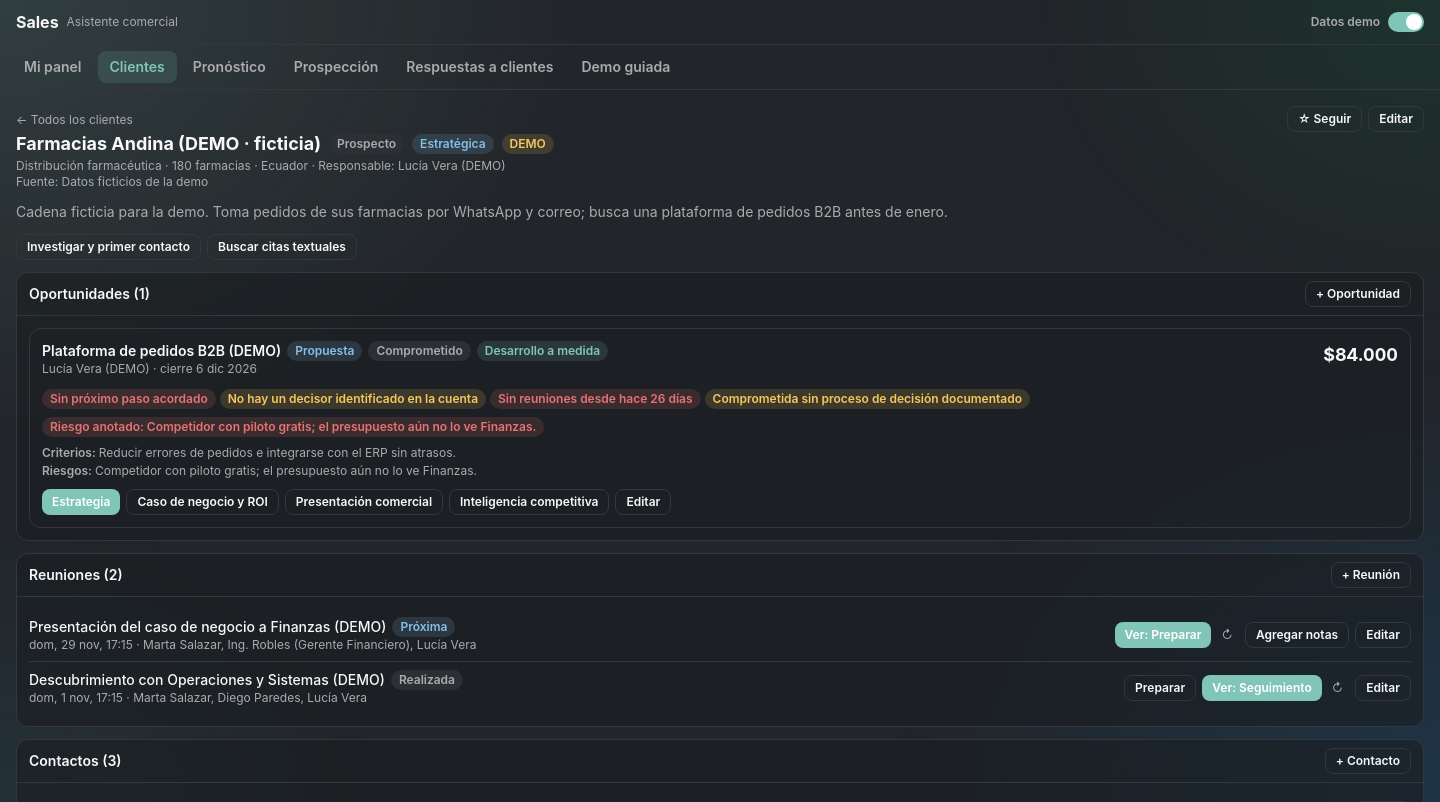
the guided demo, on the page › the business case shows the model's figures and reuses them in the deck
The image size is (1440, 802).
Click the button "Caso de negocio y ROI".
click(203, 502)  # box [126,489,279,515]
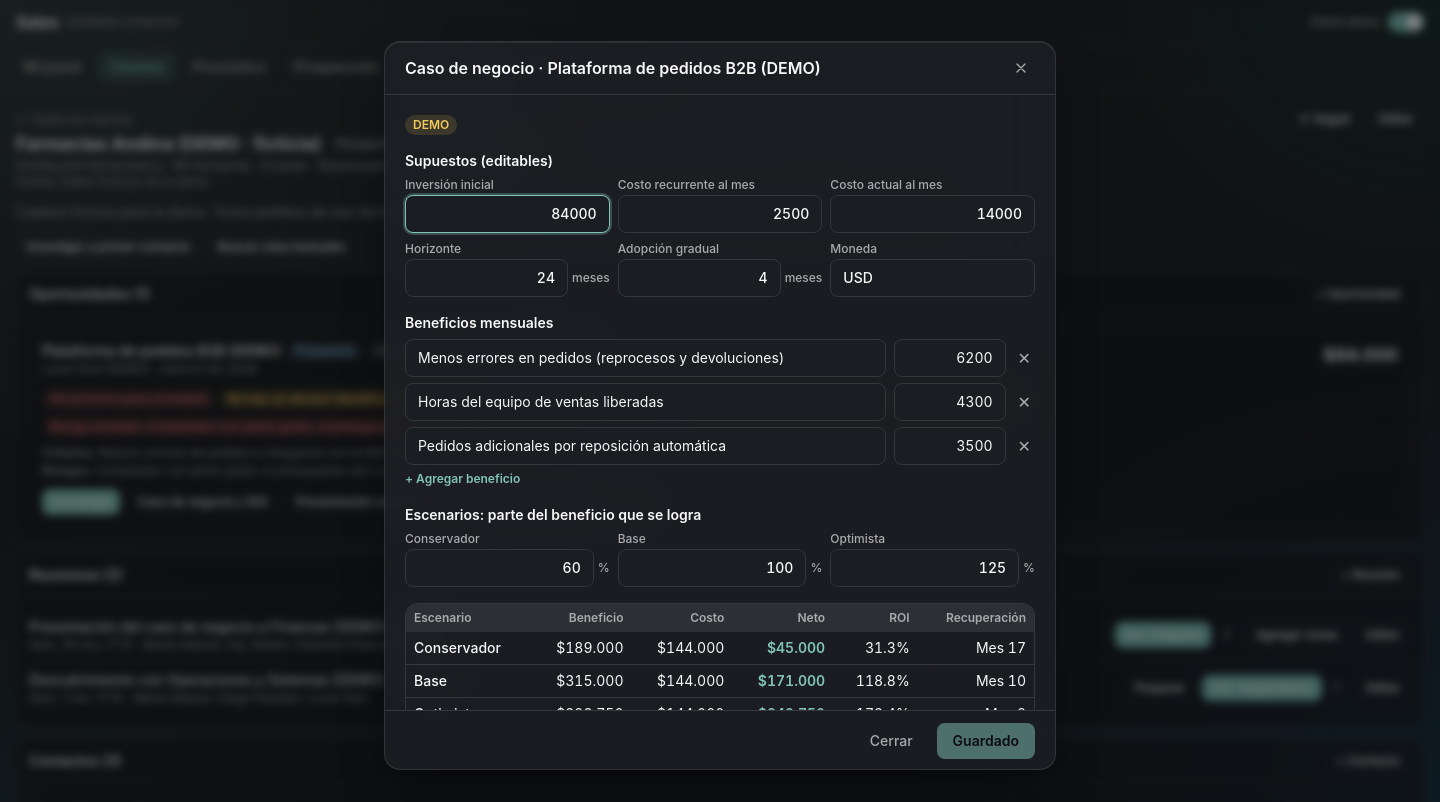
// An assumption changes: the numbers follow.
Replace the text in the field labelled "Inversión inicial" with "100000" at point(507, 214), box [405,194,610,232]
(page scrolled)
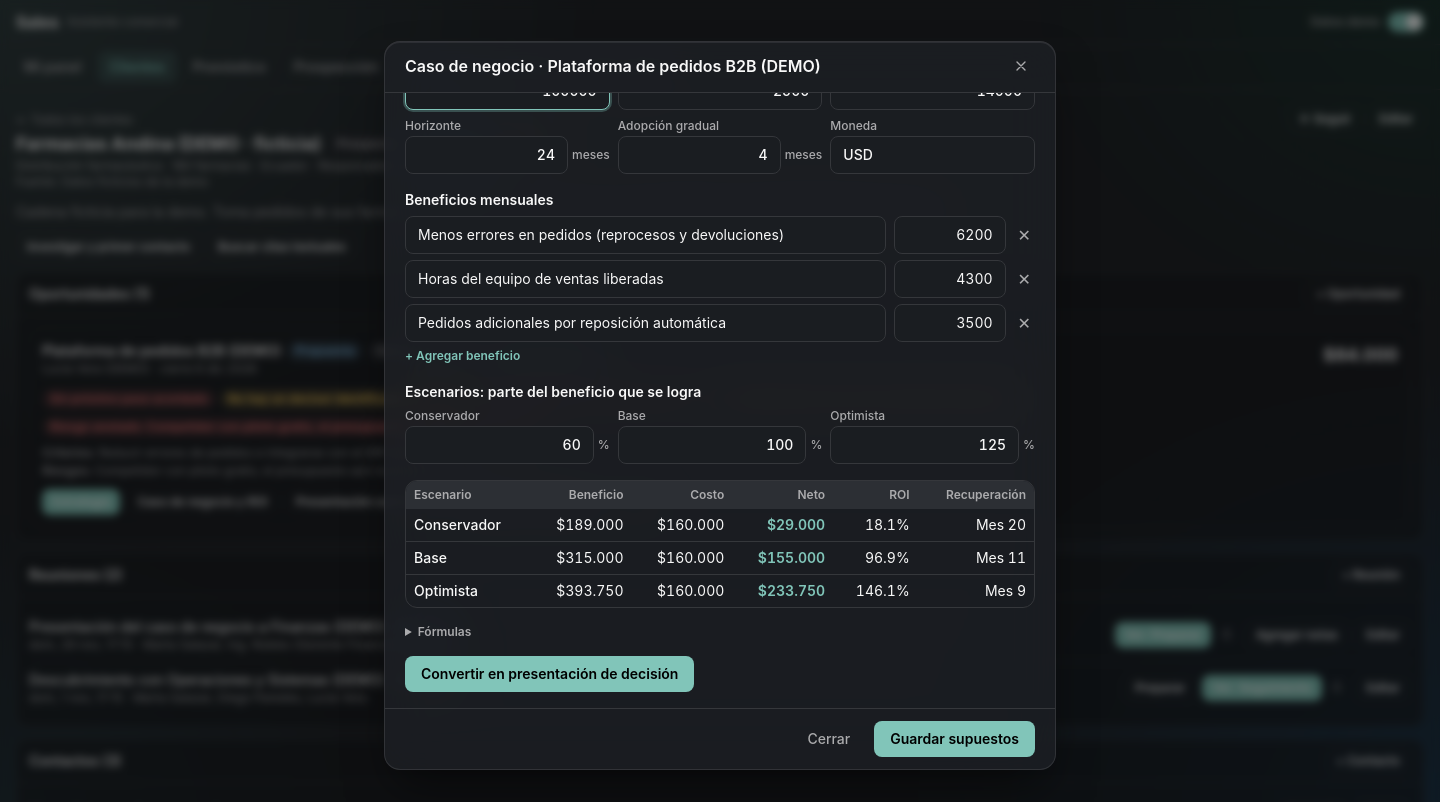
Click the button "Convertir en presentación de decisión".
click(550, 674)  # box [405,656,694,692]
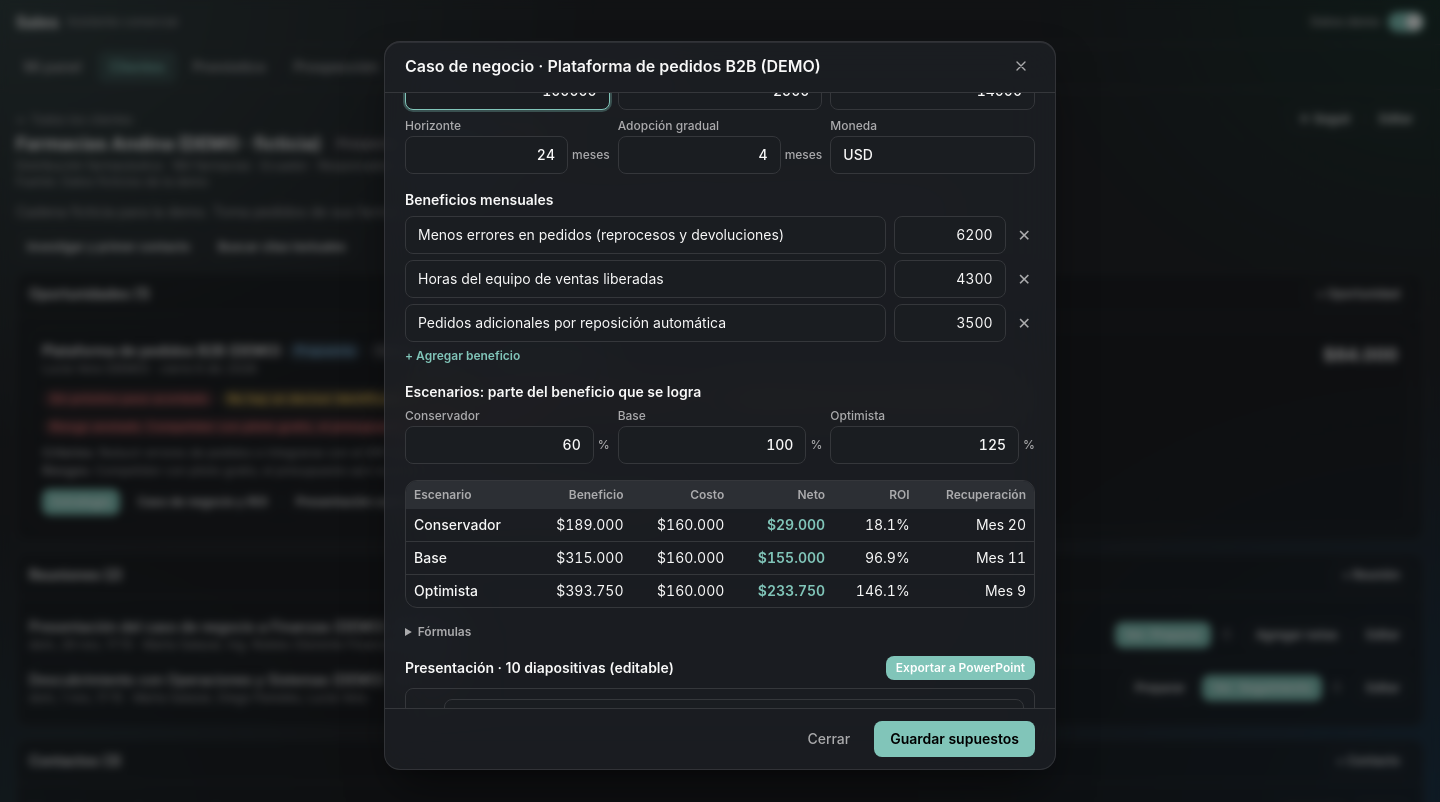
Expected: the button "Exportar a PowerPoint" is shown, [886,656,1035,680]
